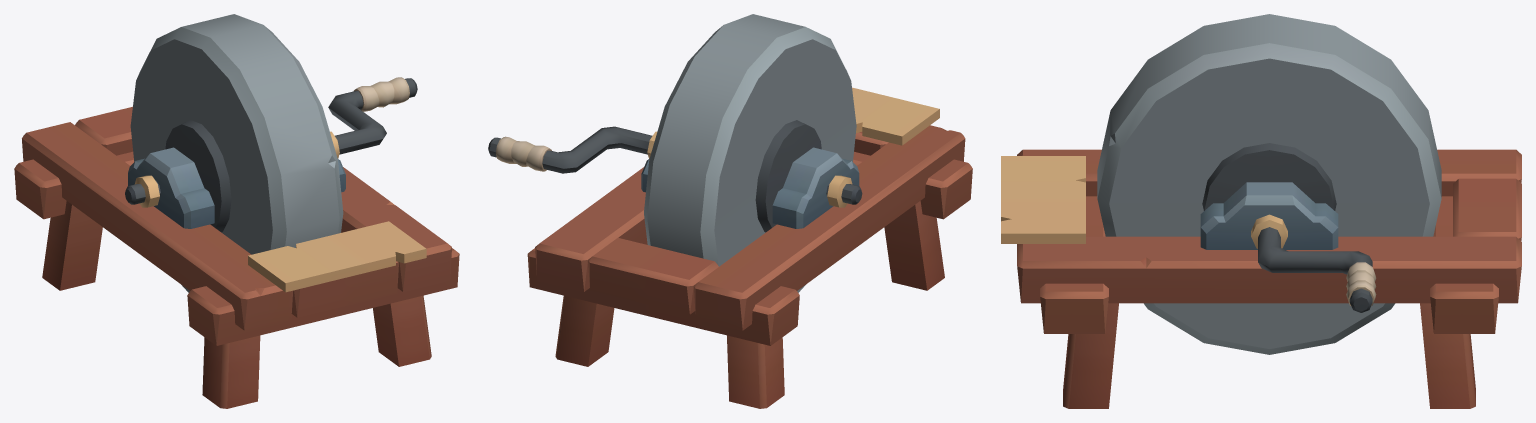
The model's file is grindstone.glb.
3 renders of one model, left to right at view 1: azimuth 30°, elevation 25°; view 2: azimuth 150°, elevation 25°; view 3: azimuth 270°, elevation 25°, orthographic. The views are drawn at different scales.
Visible parts, largest first — view 1: grindstone, grindstone_wheel; view 2: grindstone, grindstone_wheel; view 3: grindstone_wheel, grindstone.
Part boxes in pixels (x1,y1,x2,y2): grindstone: (14,106,459,408); grindstone_wheel: (125,14,417,292); grindstone: (527,87,972,408); grindstone_wheel: (488,14,862,292); grindstone_wheel: (1097,14,1441,354); grindstone: (1001,149,1521,408).
Size of the model in its own units: 1.94 by 1.55 by 2.27.
1 material, 1 textured.
